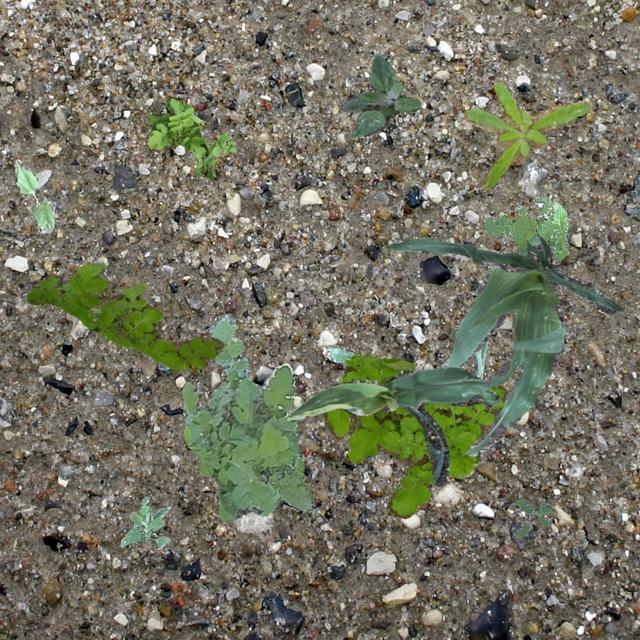crop: (384, 235, 620, 456), (286, 366, 498, 484), (322, 340, 486, 380), (12, 158, 54, 232)
weed: (322, 353, 506, 518), (182, 312, 312, 520), (26, 262, 222, 370), (462, 82, 592, 188), (144, 96, 236, 180), (342, 52, 420, 136), (482, 196, 568, 258), (119, 494, 170, 546), (512, 498, 552, 538)
